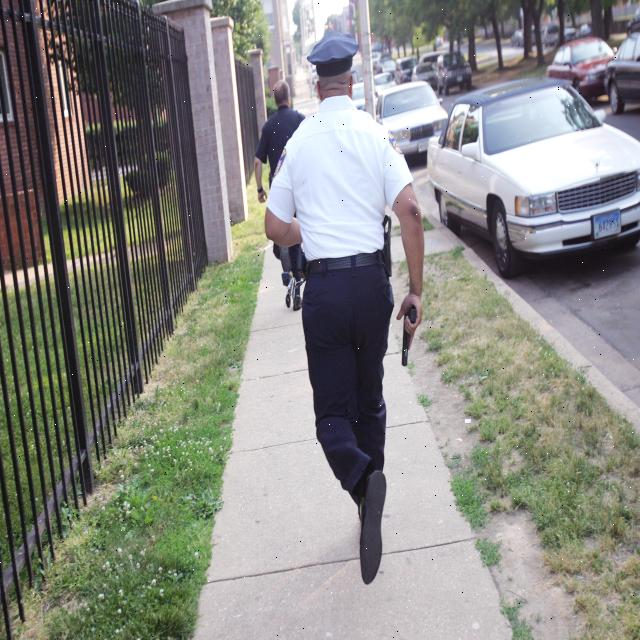police: (264, 22, 428, 587)
